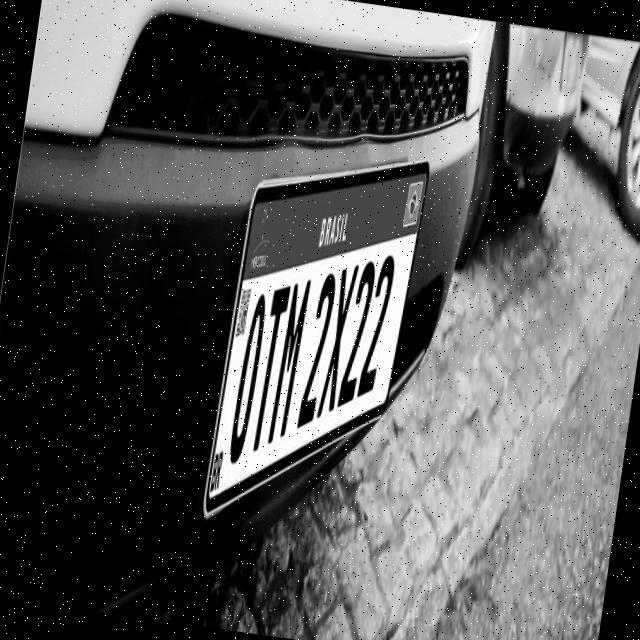placa_mercosul: (204, 163, 428, 517)
